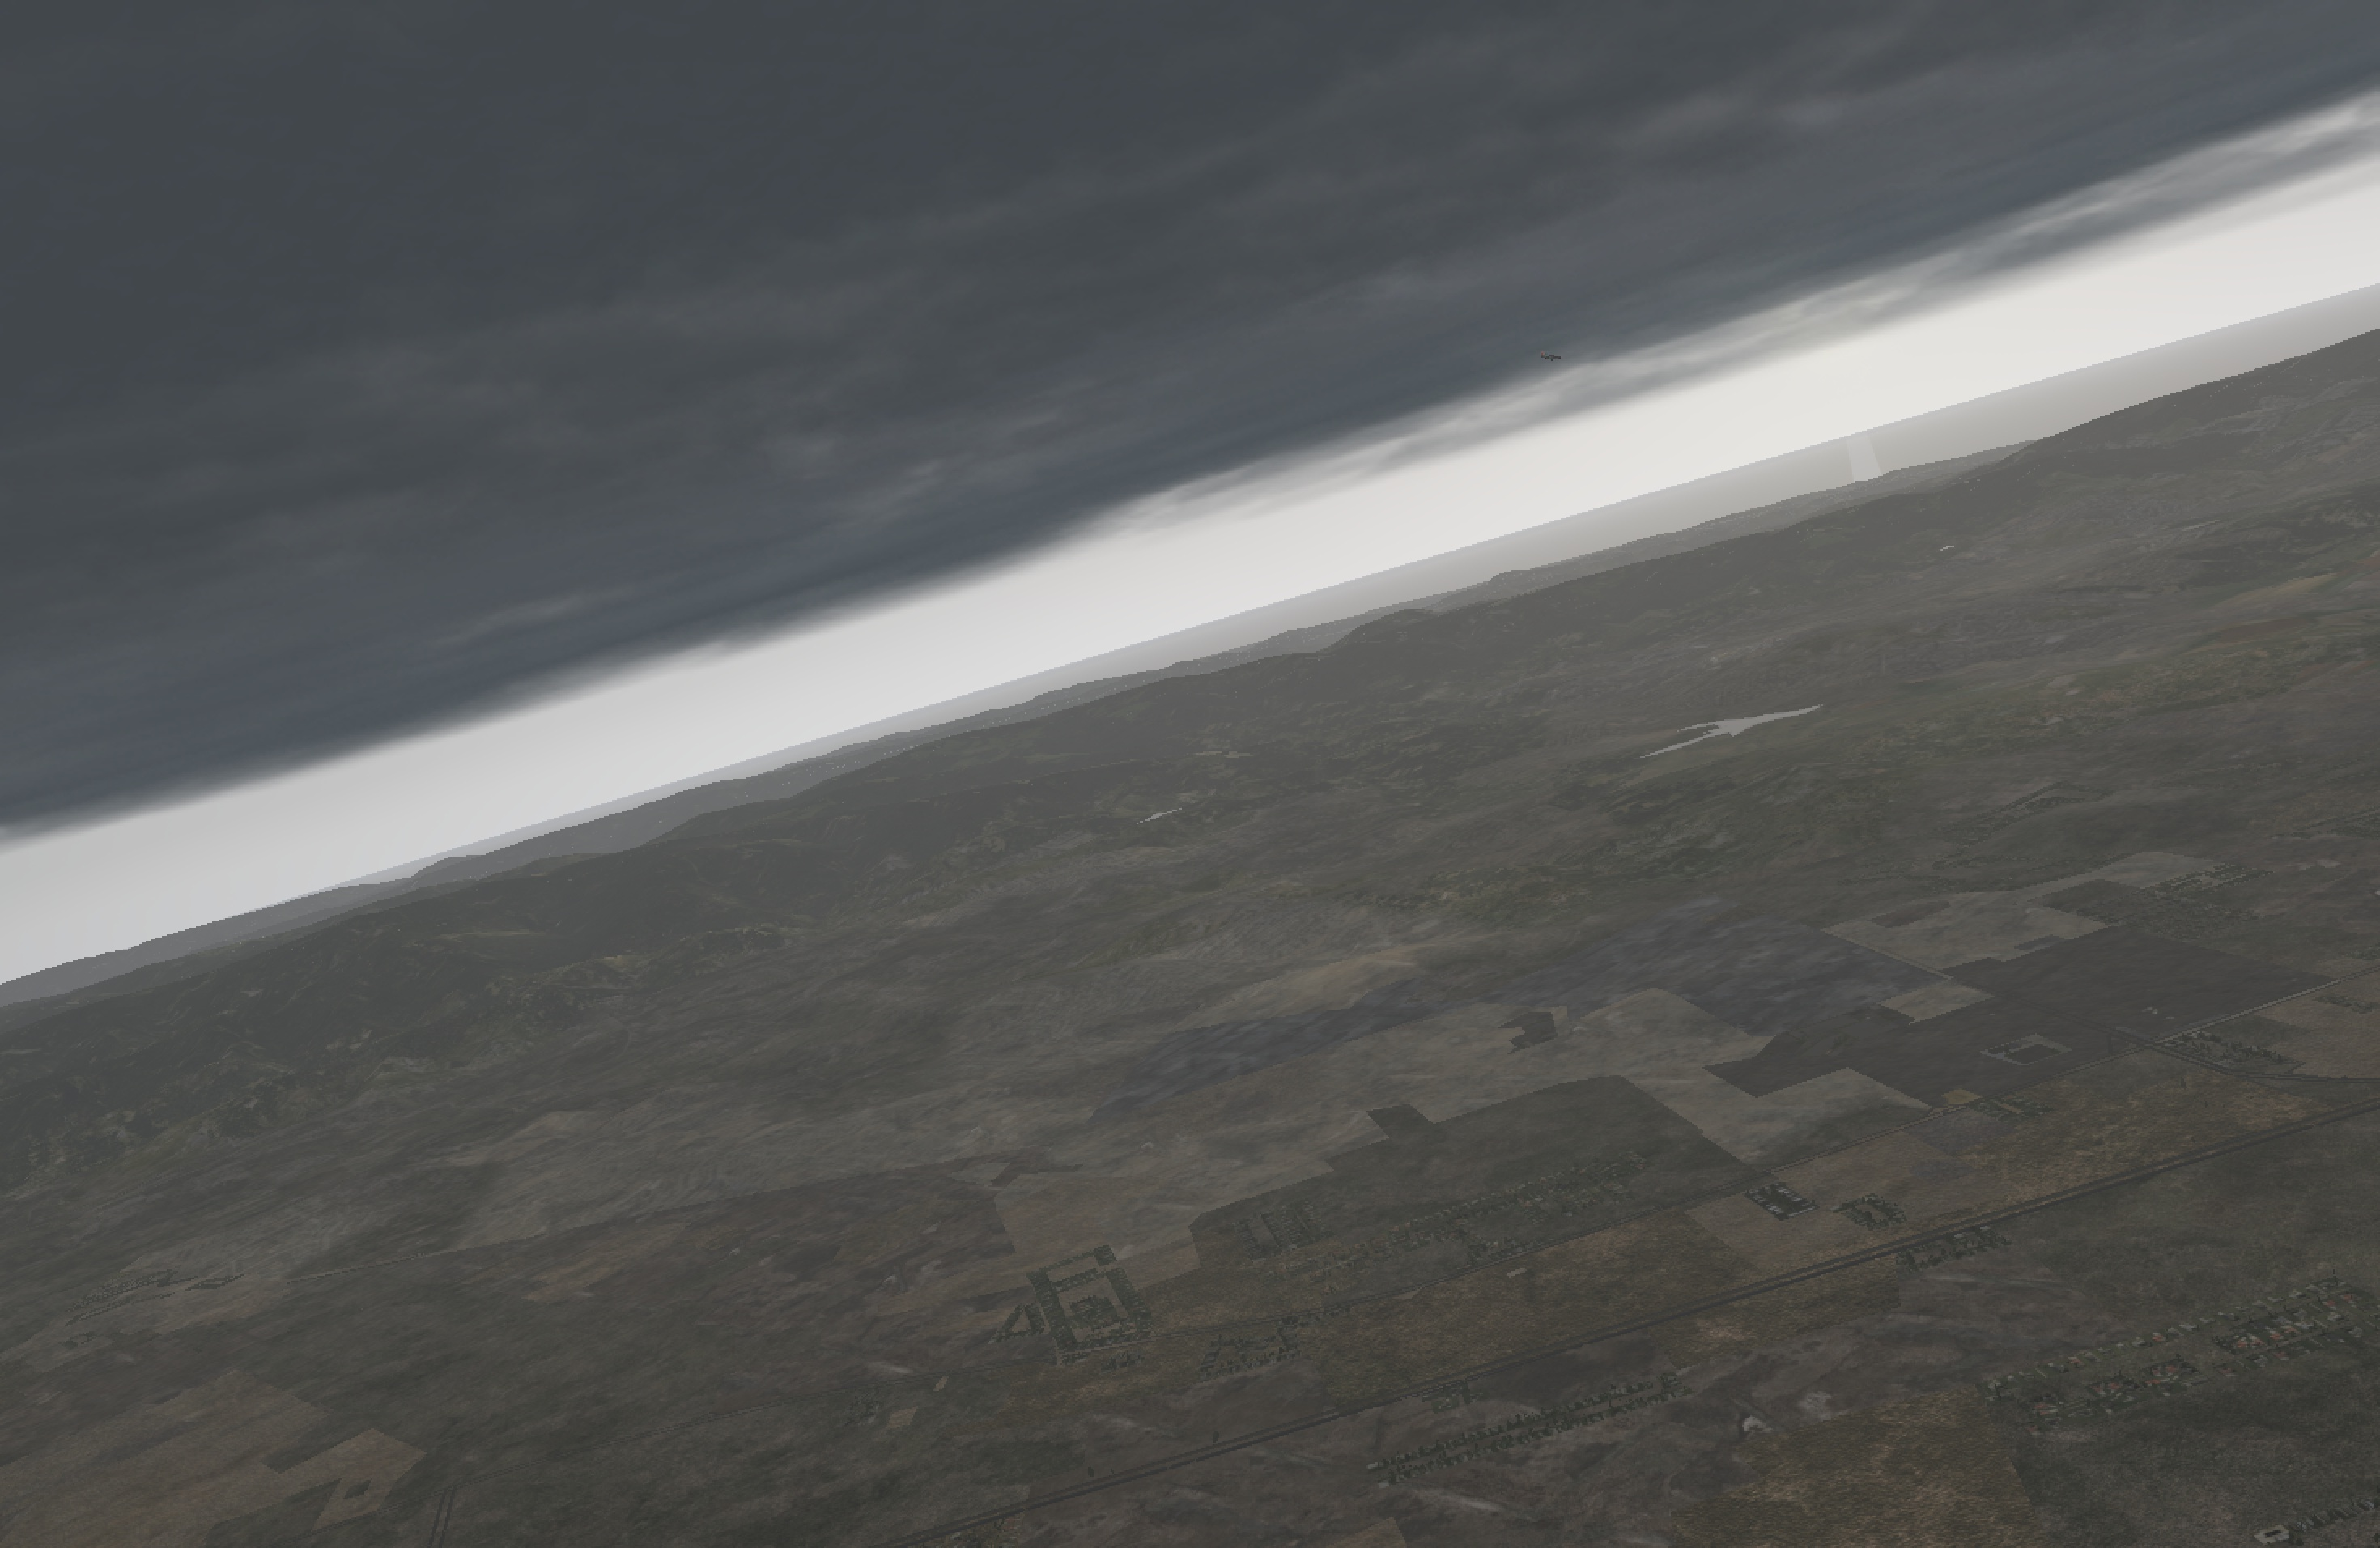aircraft: (1544, 354, 1566, 361)
